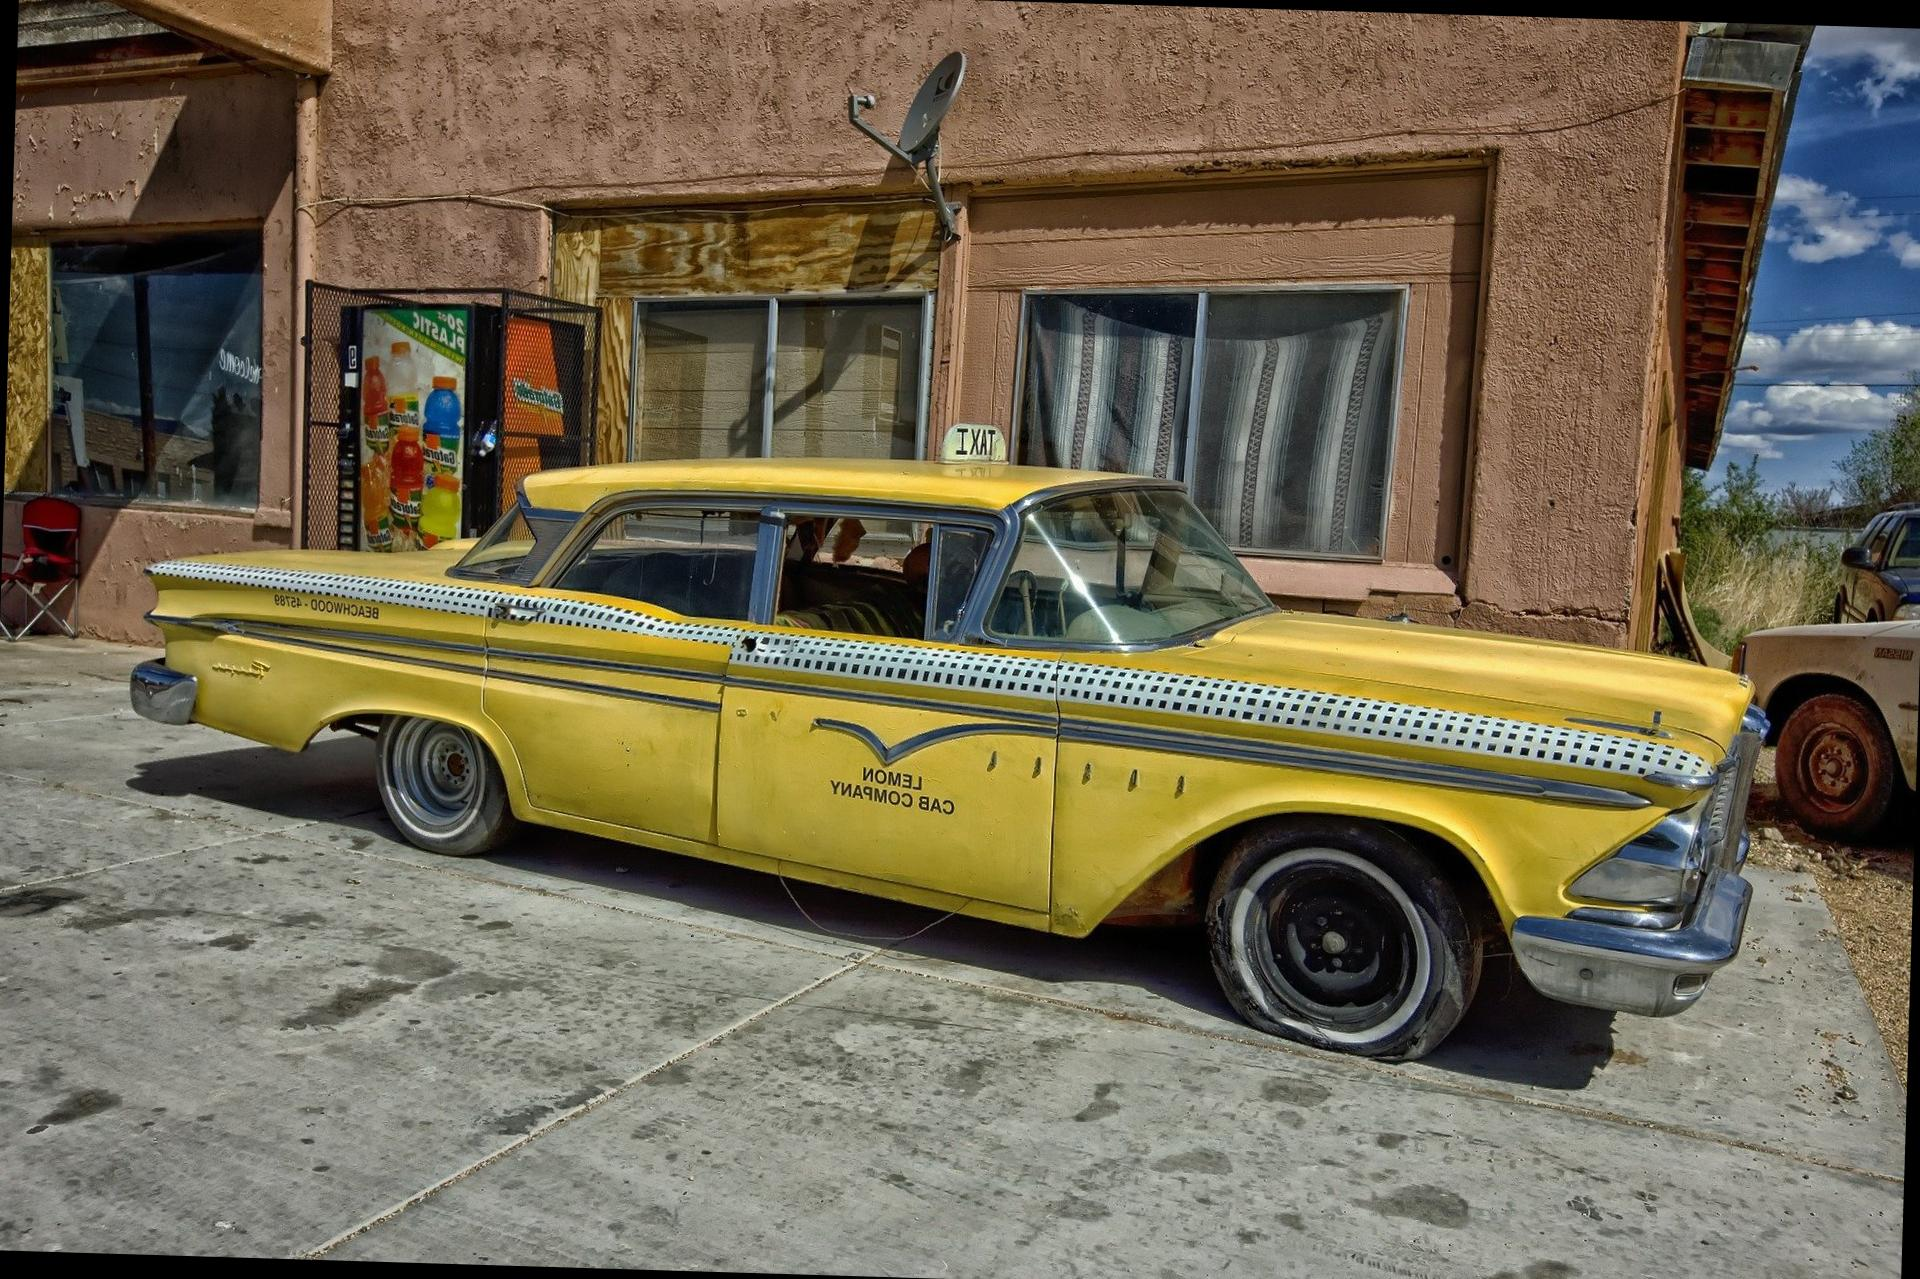taxi: (108, 453, 1773, 1059)
